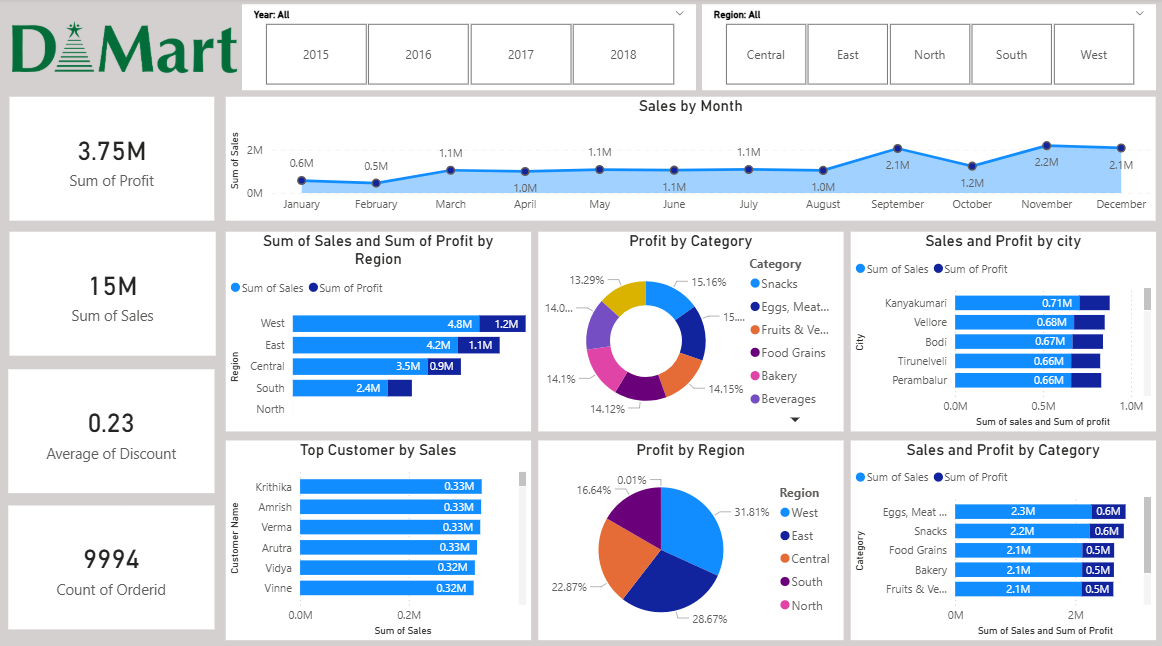

What the dashboard file says about the page in this screenshot:
{"tool":"powerbi","page":{"name":"Page 1","canvas":[1280,720],"ordinal":0},"visuals":[{"type":"card","fields":{"Values":["DMart_Grocery_Sales_-_Retail_Analytics_Dataset.Total sales"]},"box":[13.7,256.6,226.4,135.8],"z":0},{"type":"card","fields":{"Values":["DMart_Grocery_Sales_-_Retail_Analytics_Dataset.Total profit"]},"box":[13.7,108.4,225,135.8],"z":1000},{"type":"card","fields":{"Values":["DMart_Grocery_Sales_-_Retail_Analytics_Dataset.Total orderid"]},"box":[12.3,557.1,226.4,135.8],"z":2000},{"type":"card","fields":{"Values":["DMart_Grocery_Sales_-_Retail_Analytics_Dataset.Average discount"]},"box":[12.3,407.5,226.4,135.8],"z":3000},{"type":"image","box":[16.5,0,247,108.4],"z":4000},{"type":"lineChart","title":"Sales by Month","fields":{"Category":["DMart_Grocery_Sales_-_Retail_Analytics_Dataset.Month"],"Y":["DMart_Grocery_Sales_-_Retail_Analytics_Dataset.Total sales"]},"box":[251.1,108.4,1020.9,135.8],"z":5000},{"type":"barChart","fields":{"Category":["DMart_Grocery_Sales_-_Retail_Analytics_Dataset.Region"],"Y":["DMart_Grocery_Sales_-_Retail_Analytics_Dataset.Total sales","DMart_Grocery_Sales_-_Retail_Analytics_Dataset.Total profit"]},"box":[251.1,256.6,334.8,219.6],"z":6000},{"type":"donutChart","title":"Profit by Category","fields":{"Y":["DMart_Grocery_Sales_-_Retail_Analytics_Dataset.Total profit"],"Category":["DMart_Grocery_Sales_-_Retail_Analytics_Dataset.Category"]},"box":[594.2,256.6,334.8,219.6],"z":7000},{"type":"barChart","title":"Sales and Profit by city","fields":{"Y":["DMart_Grocery_Sales_-_Retail_Analytics_Dataset.Total sales","DMart_Grocery_Sales_-_Retail_Analytics_Dataset.Total profit"],"Category":["DMart_Grocery_Sales_-_Retail_Analytics_Dataset.City"]},"box":[937.2,256.6,334.8,219.6],"z":8000},{"type":"barChart","title":"Top Customer by Sales","fields":{"Category":["DMart_Grocery_Sales_-_Retail_Analytics_Dataset.Customer Name"],"Y":["DMart_Grocery_Sales_-_Retail_Analytics_Dataset.Total sales"]},"box":[251.1,485.8,334.8,219.6],"z":9000},{"type":"barChart","title":"Sales and Profit by Category","fields":{"Category":["DMart_Grocery_Sales_-_Retail_Analytics_Dataset.Category"],"Y":["DMart_Grocery_Sales_-_Retail_Analytics_Dataset.Sum of Sales","DMart_Grocery_Sales_-_Retail_Analytics_Dataset.Sum of Profit"]},"box":[937.2,485.8,334.8,219.6],"z":10000},{"type":"pieChart","title":"Profit by Region","fields":{"Y":["DMart_Grocery_Sales_-_Retail_Analytics_Dataset.Total profit"],"Category":["DMart_Grocery_Sales_-_Retail_Analytics_Dataset.Region"]},"box":[594.2,485.8,334.8,219.6],"z":11000},{"type":"slicer","fields":{"Values":["DMart_Grocery_Sales_-_Retail_Analytics_Dataset.Year"]},"box":[269,6.9,498.1,94.7],"z":12000},{"type":"slicer","fields":{"Values":["DMart_Grocery_Sales_-_Retail_Analytics_Dataset.Region"]},"box":[773.9,6.9,498.1,94.7],"z":13000}]}

Visuals, with their boxes in screenshot pixels (x1, y1, x2, y2), scaled from the page's 1280x720 canvas onto the 1162x646 screenshot:
card - DMart_Grocery_Sales_-_Retail_Analytics_Dataset.Total sales: box(12, 230, 218, 352)
card - DMart_Grocery_Sales_-_Retail_Analytics_Dataset.Total profit: box(12, 97, 217, 219)
card - DMart_Grocery_Sales_-_Retail_Analytics_Dataset.Total orderid: box(11, 500, 217, 622)
card - DMart_Grocery_Sales_-_Retail_Analytics_Dataset.Average discount: box(11, 366, 217, 487)
image: box(15, 0, 239, 97)
"Sales by Month" lineChart: box(228, 97, 1155, 219)
barChart - DMart_Grocery_Sales_-_Retail_Analytics_Dataset.Region x DMart_Grocery_Sales_-_Retail_Analytics_Dataset.Total sales: box(228, 230, 532, 427)
"Profit by Category" donutChart: box(539, 230, 843, 427)
"Sales and Profit by city" barChart: box(851, 230, 1155, 427)
"Top Customer by Sales" barChart: box(228, 436, 532, 633)
"Sales and Profit by Category" barChart: box(851, 436, 1155, 633)
"Profit by Region" pieChart: box(539, 436, 843, 633)
slicer - DMart_Grocery_Sales_-_Retail_Analytics_Dataset.Year: box(244, 6, 696, 91)
slicer - DMart_Grocery_Sales_-_Retail_Analytics_Dataset.Region: box(703, 6, 1155, 91)
